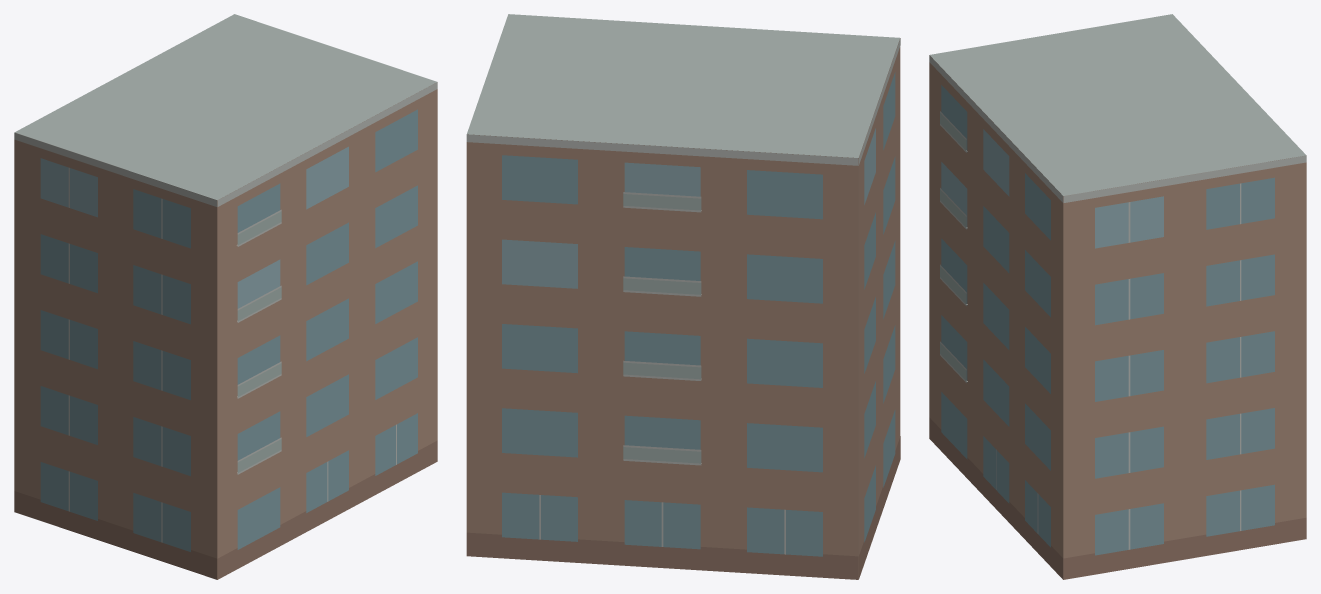
The model's file is survey-upis-32734301.glb.
3 views of the same model, side by side, from view 1: azimuth 30°, elevation 25°; view 2: azimuth 150°, elevation 25°; view 3: azimuth 270°, elevation 25° (orthographic). The views are drawn at different scales.
Parts seen in each view (by area): view 1: survey-upis-32734301.tmp; view 2: survey-upis-32734301.tmp; view 3: survey-upis-32734301.tmp.
Boxes of the visible parts, <box> form: survey-upis-32734301.tmp: <box>14,14,437,579</box>; survey-upis-32734301.tmp: <box>466,14,900,579</box>; survey-upis-32734301.tmp: <box>929,14,1306,579</box>.
Size of the model in its own units: 13.45 by 13.2 by 11.77.
